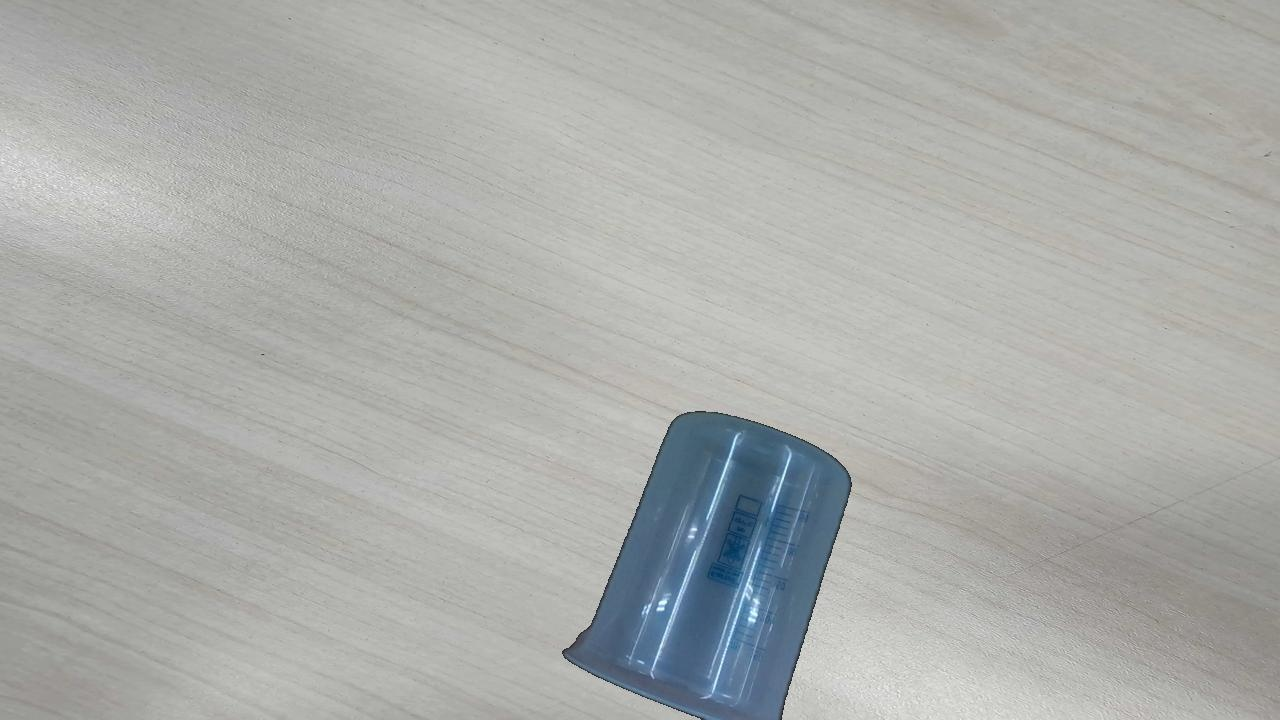becker: (562, 409, 853, 715)
